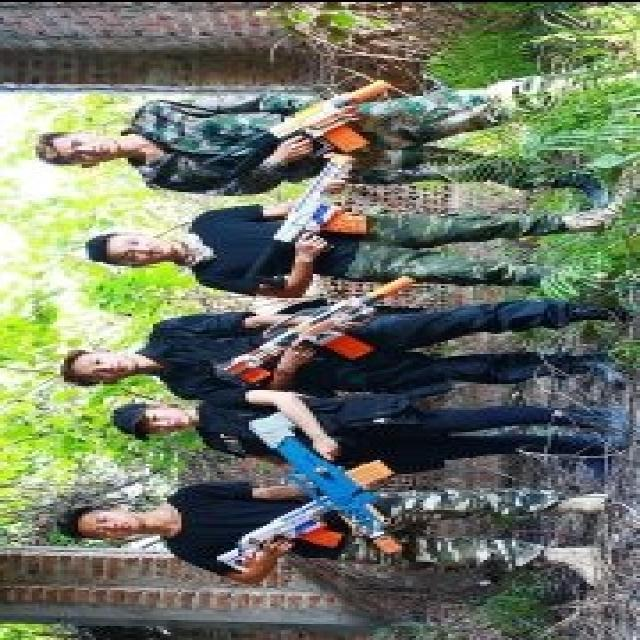Nerf gun: (206, 269, 420, 387), (249, 406, 398, 566), (208, 459, 389, 573), (188, 82, 388, 178), (262, 152, 364, 256)
